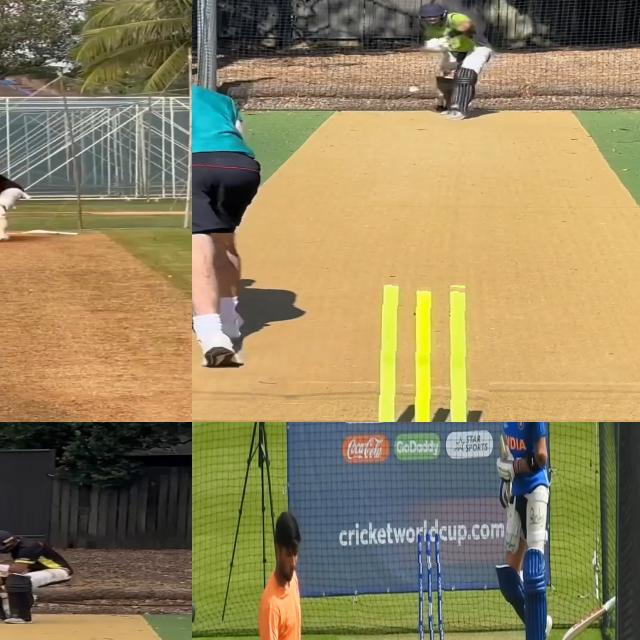Cricket ball: (406, 85, 421, 95)
Stumps: (371, 281, 490, 422), (415, 529, 444, 640)
